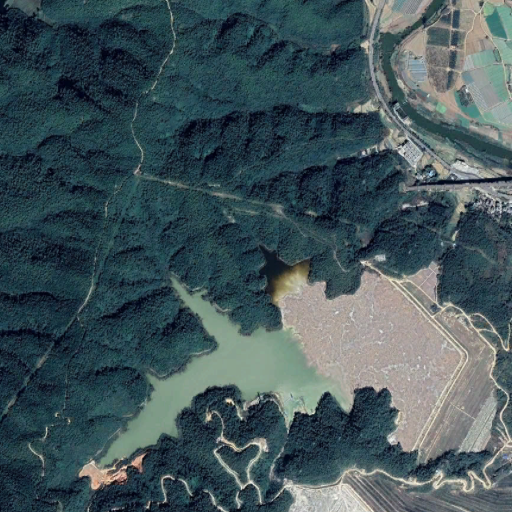tp: (89, 266, 498, 468)
